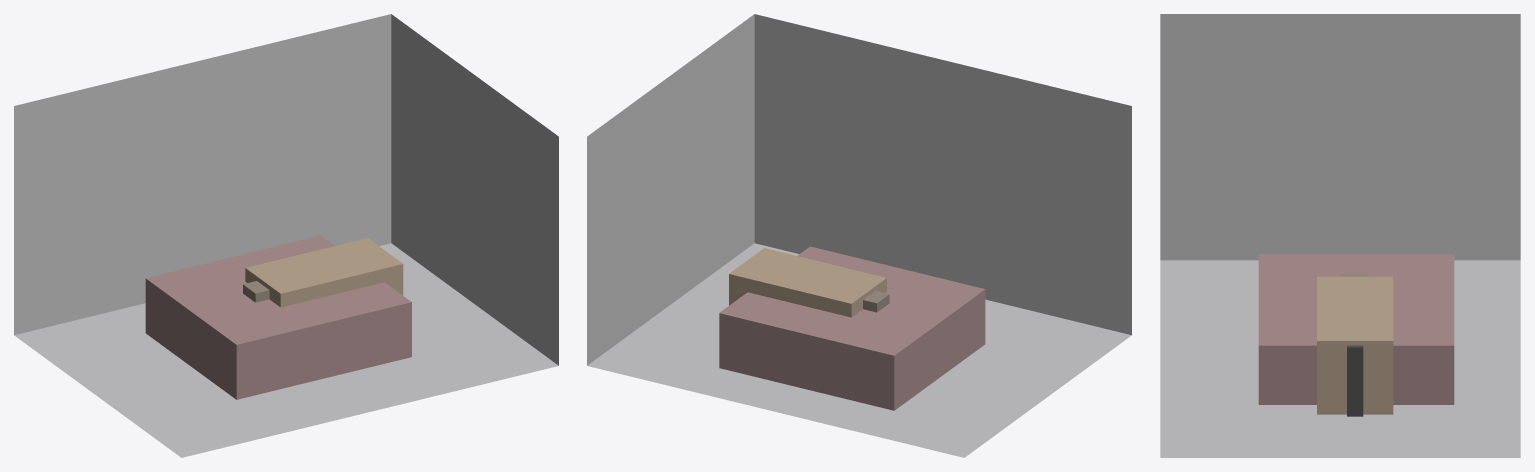
The model's file is current_layout.glb.
3 views of the same model, side by side, from view 1: azimuth 30°, elevation 25°; view 2: azimuth 150°, elevation 25°; view 3: azimuth 270°, elevation 25° (orthographic). The views are drawn at different scales.
Parts seen in each view (by area): view 1: room, bed, desk; view 2: room, bed, desk; view 3: room, bed, desk, tv.
Boxes of the visible parts, <box> form: room: <box>14,14,558,457</box>; bed: <box>145,235,411,399</box>; desk: <box>245,238,403,307</box>; room: <box>587,14,1131,457</box>; bed: <box>719,246,985,410</box>; desk: <box>729,248,886,317</box>; room: <box>1160,14,1520,457</box>; bed: <box>1258,254,1454,404</box>; desk: <box>1317,276,1393,414</box>; tv: <box>1347,345,1363,416</box>.
Bounding box in the file's own units: 4.31 × 2.5 × 3.31.
